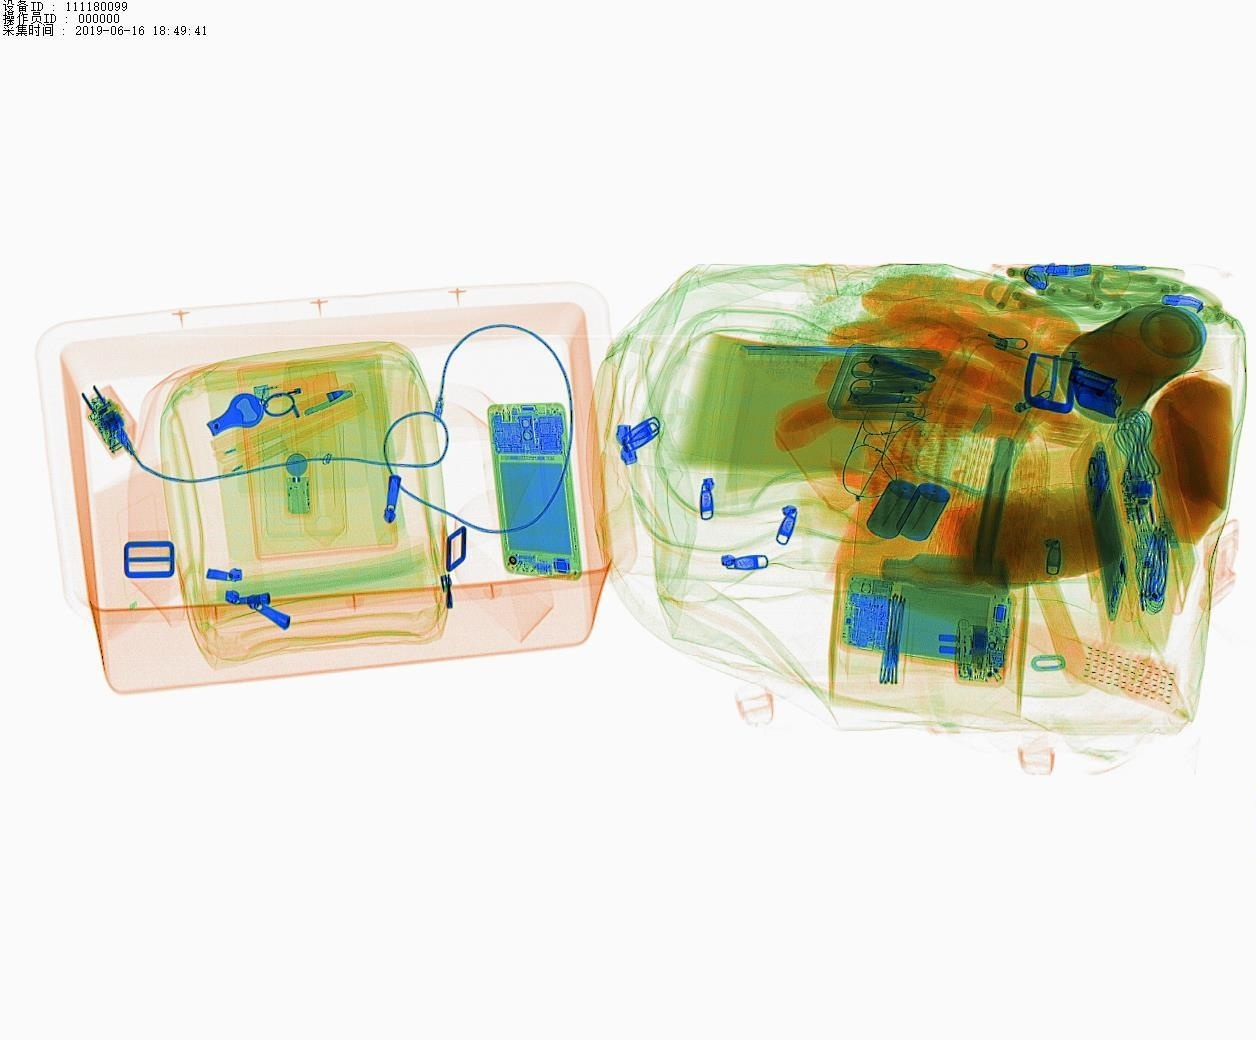NonmetallicFire: (247, 364, 348, 419)
